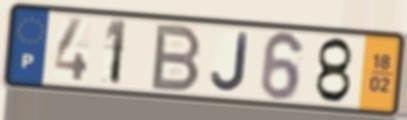1: (104, 18, 129, 89)
4: (53, 15, 90, 85)
6: (258, 30, 306, 103)
8: (313, 36, 355, 105)
B: (148, 22, 205, 94)
J: (208, 31, 251, 94)
